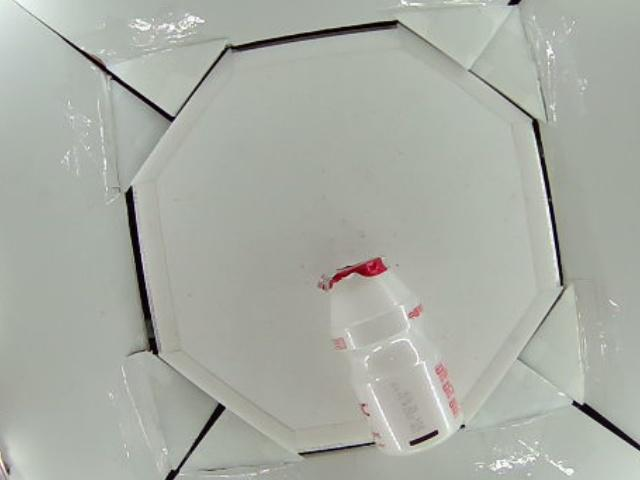Bottle: (319, 258, 467, 455)
